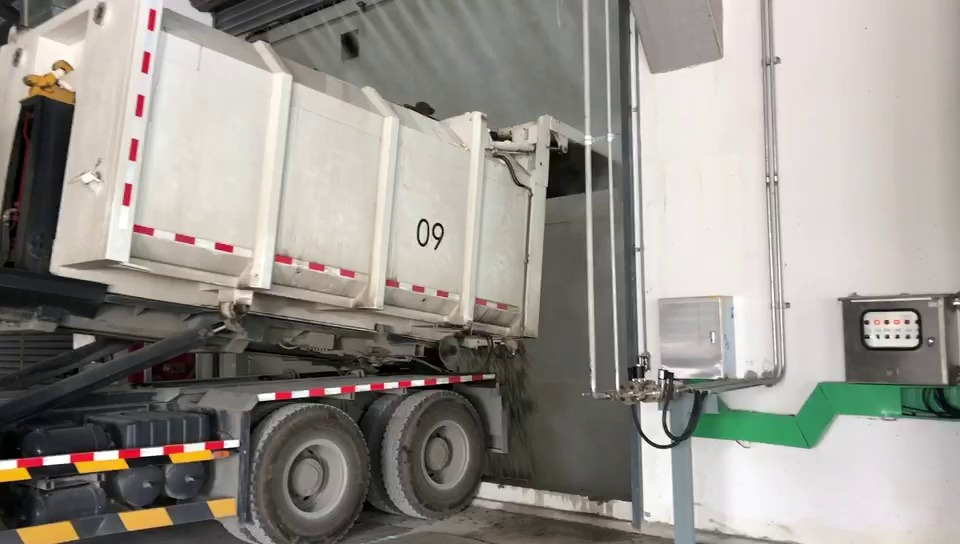truck: (0, 0, 586, 532)
